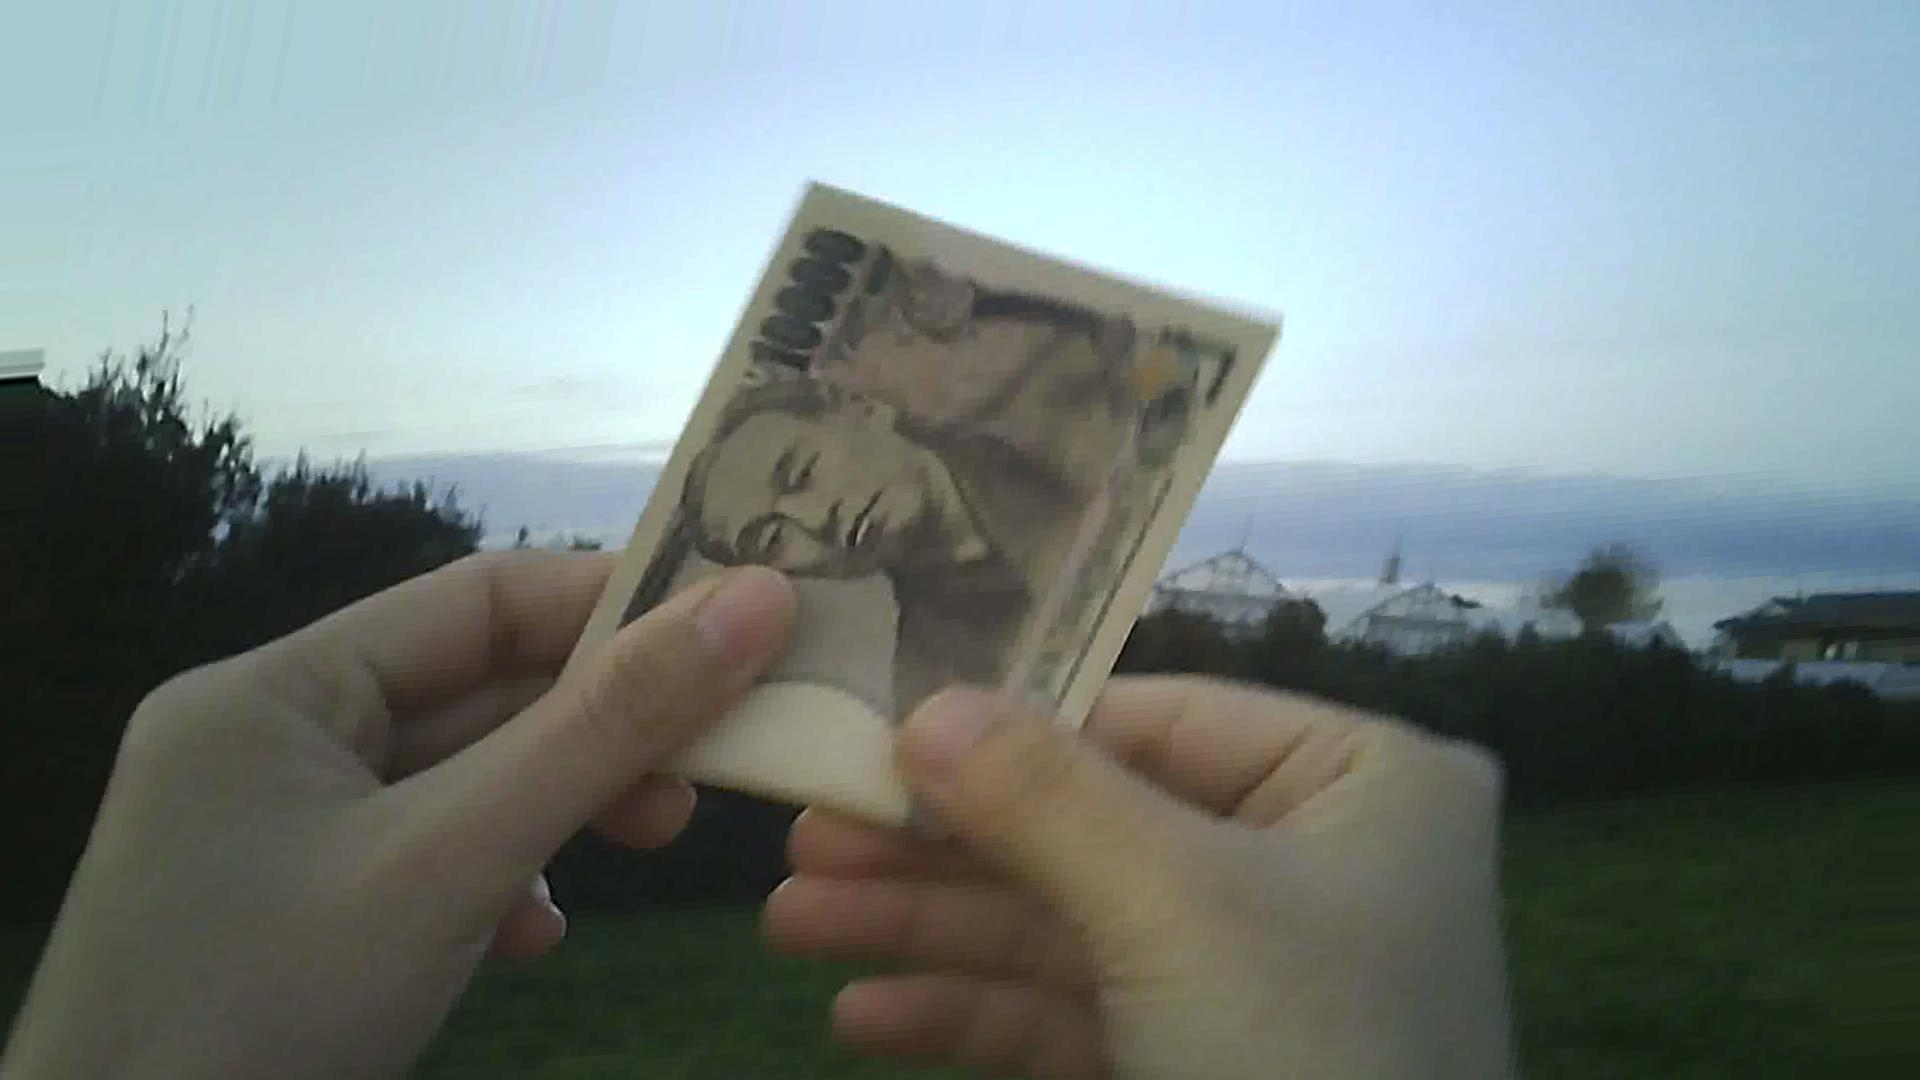10,000 Yen: (527, 179, 1269, 828)
